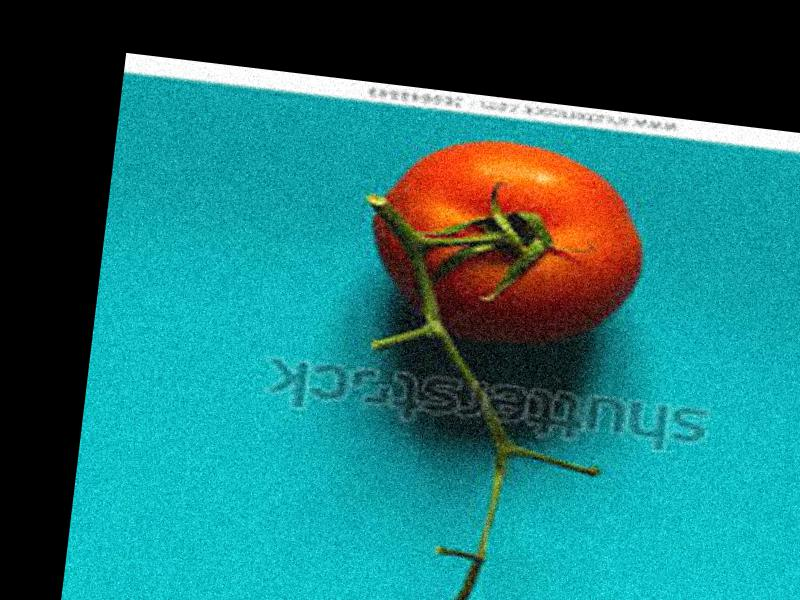Tomato: (359, 130, 652, 353)
